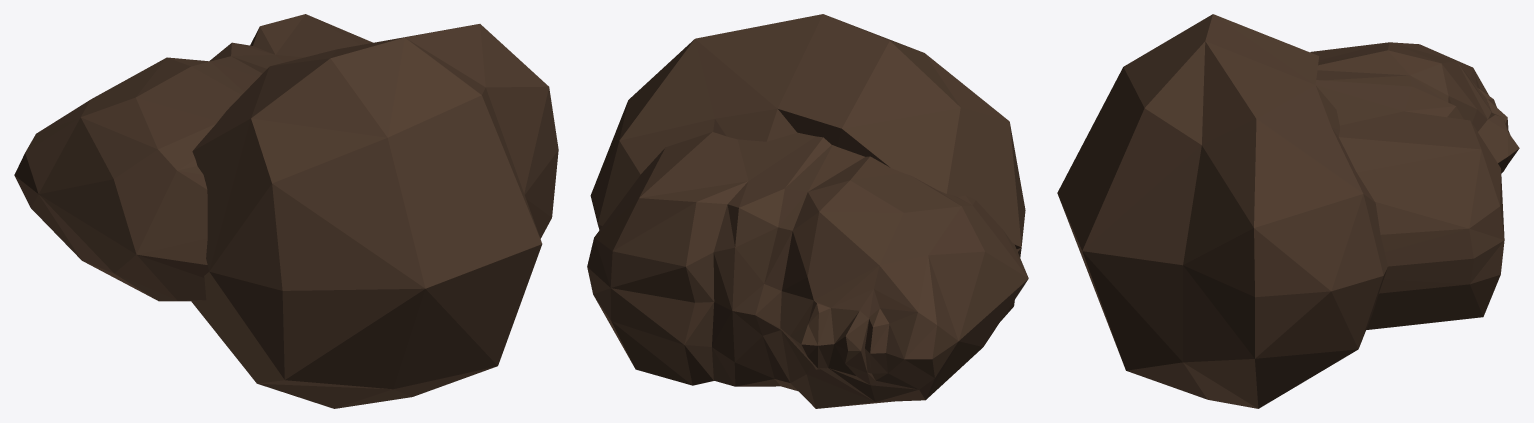
Rendered from HUM_HEAD_BABE8.OBJ.
3 views of the same model, side by side, from view 1: azimuth 30°, elevation 25°; view 2: azimuth 150°, elevation 25°; view 3: azimuth 270°, elevation 25° (orthographic). The views are drawn at different scales.
Visible parts, largest first — view 1: HUM_HEAD_BABE8; view 2: HUM_HEAD_BABE8; view 3: HUM_HEAD_BABE8.
Part boxes in pixels (box(x1,y1,x2,y2)): HUM_HEAD_BABE8: box(14, 14, 558, 408); HUM_HEAD_BABE8: box(587, 14, 1028, 408); HUM_HEAD_BABE8: box(1057, 14, 1519, 408).
Bounding box in the file's own units: 0.2908 × 0.2344 × 0.2773.
